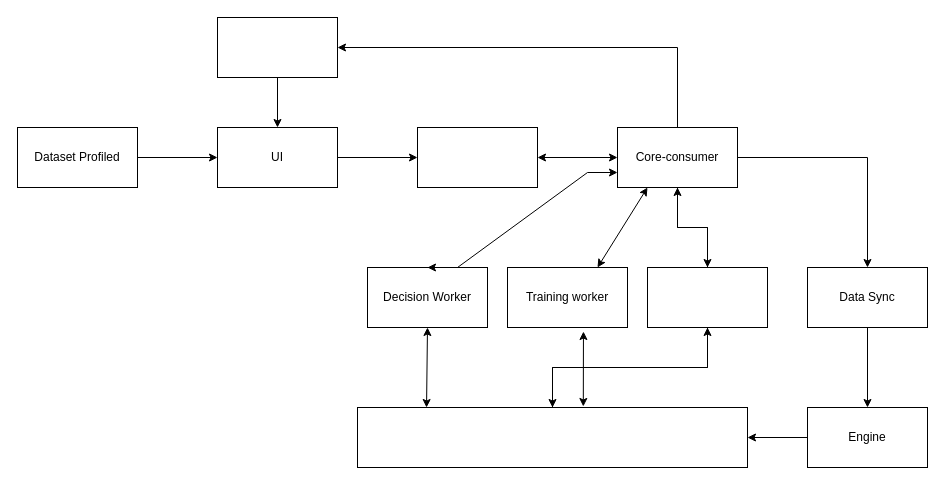
Some shapes in this 945 by 485 pixel diagram are drawn without their labels. Each missing label, with the centre of its shape:
"AutoML Service" belongs at point (277, 47).
"Core-API" belongs at point (477, 157).
"Files API" belongs at point (552, 437).
"Preprocessing Worker" belongs at point (707, 297).
